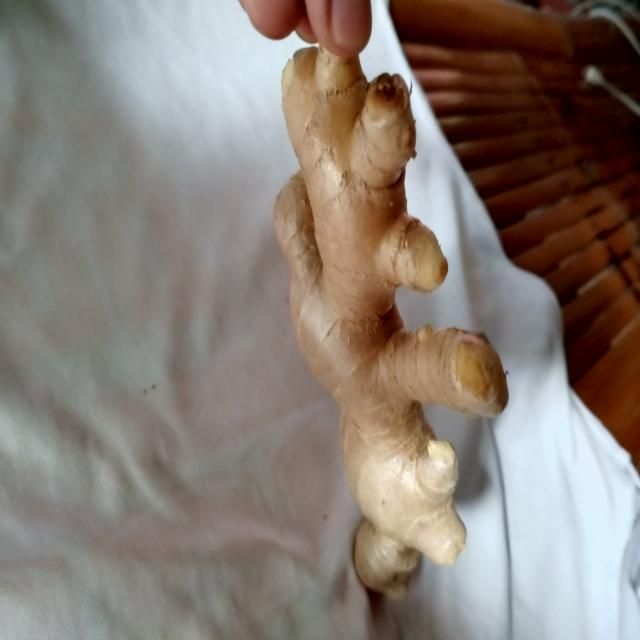ginger: (252, 32, 524, 610)
